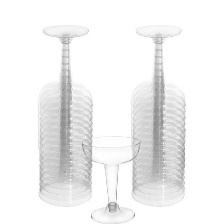glass: (18, 16, 99, 214), (127, 17, 190, 208), (72, 128, 148, 224)
